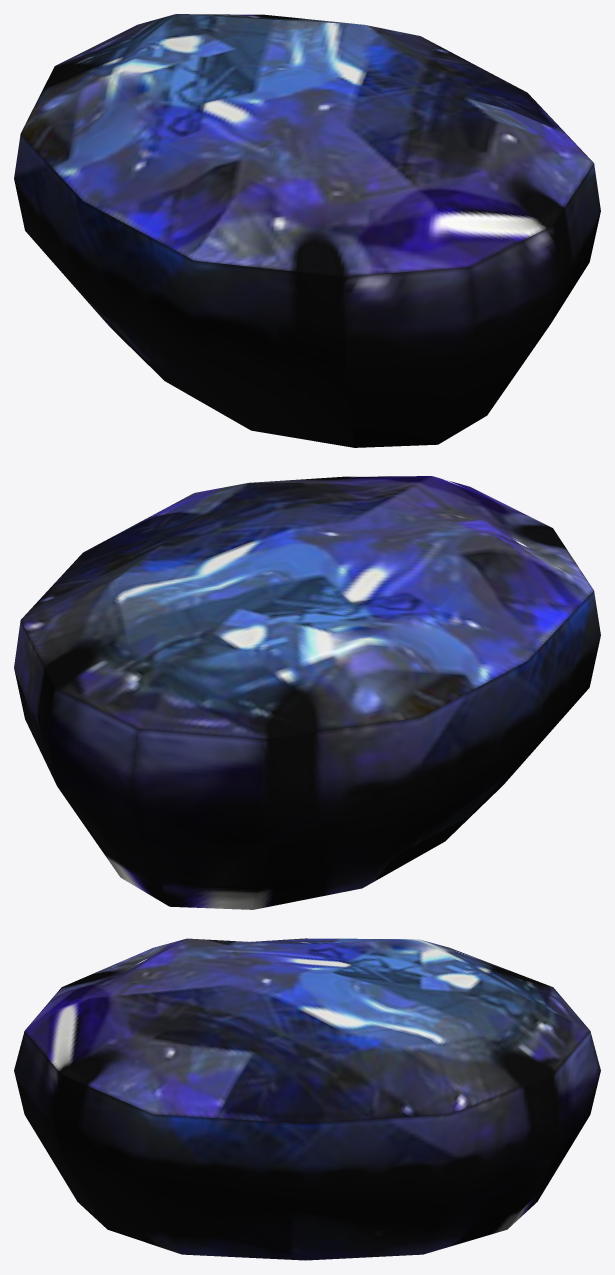
Rendered from blueRing_jewel_0208.obj.
The picture shows the model from 3 angles, top to bottom: view 1: azimuth 30°, elevation 25°; view 2: azimuth 150°, elevation 25°; view 3: azimuth 270°, elevation 25°; orthographic projection. The views are drawn at different scales.
Visible parts, largest first — view 1: blueRing_jewel:blueJewel1 blueRing_jewel:blueRing_combined1 blue; view 2: blueRing_jewel:blueJewel1 blueRing_jewel:blueRing_combined1 blue; view 3: blueRing_jewel:blueJewel1 blueRing_jewel:blueRing_combined1 blue.
Boxes of the visible parts, bbox=[...] form: blueRing_jewel:blueJewel1 blueRing_jewel:blueRing_combined1 blue: bbox=[14, 14, 600, 447]; blueRing_jewel:blueJewel1 blueRing_jewel:blueRing_combined1 blue: bbox=[14, 476, 600, 909]; blueRing_jewel:blueJewel1 blueRing_jewel:blueRing_combined1 blue: bbox=[14, 938, 600, 1260].
Bounding box in the file's own units: 14.52 × 9.67 × 19.11.
1 material, 1 textured.
